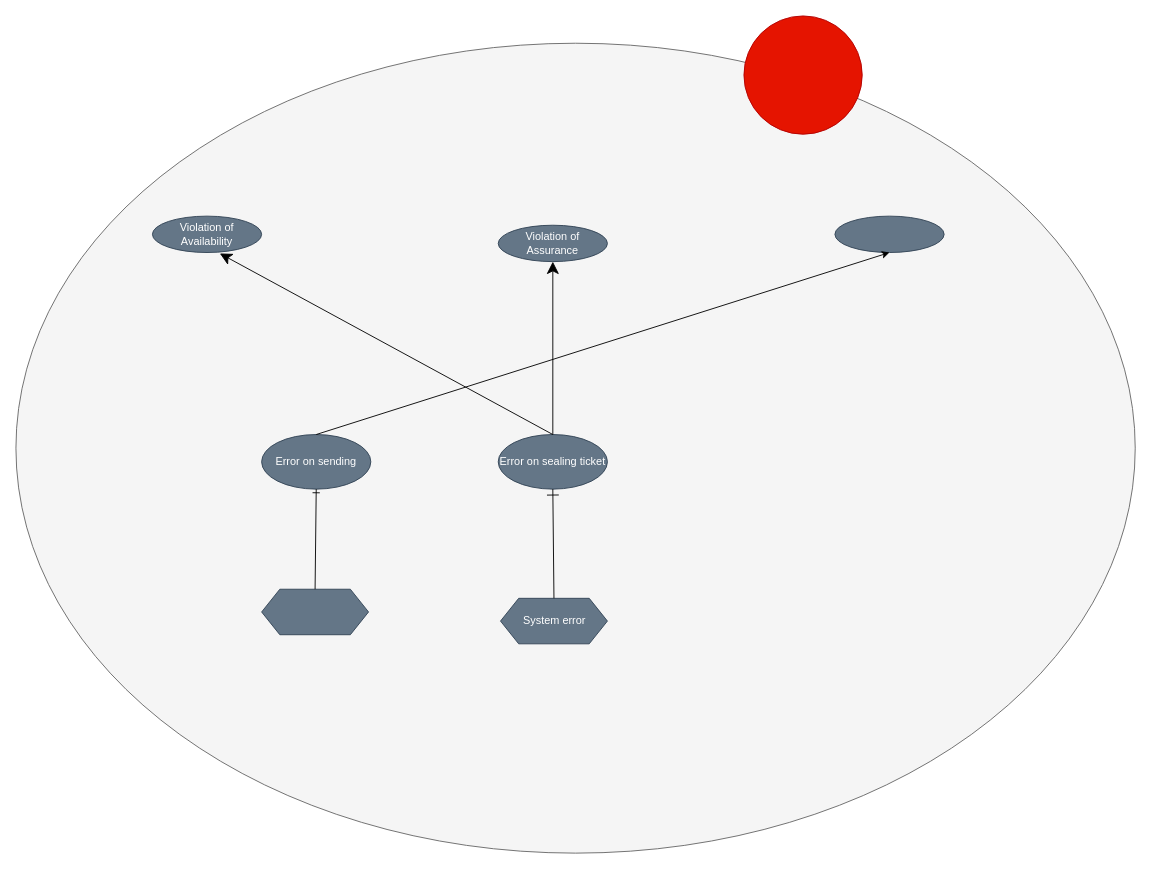
This 1151x869 diagram has some shape labels left out. The shapes that lost their labels are listed below. From the top down, each one's centre as x and y in pixels, then its label:
At [802,74]: "Clumsy Payment System".
At [889,234]: "Violation of Confidentiality".
At [315,611]: "Accidental sending".
